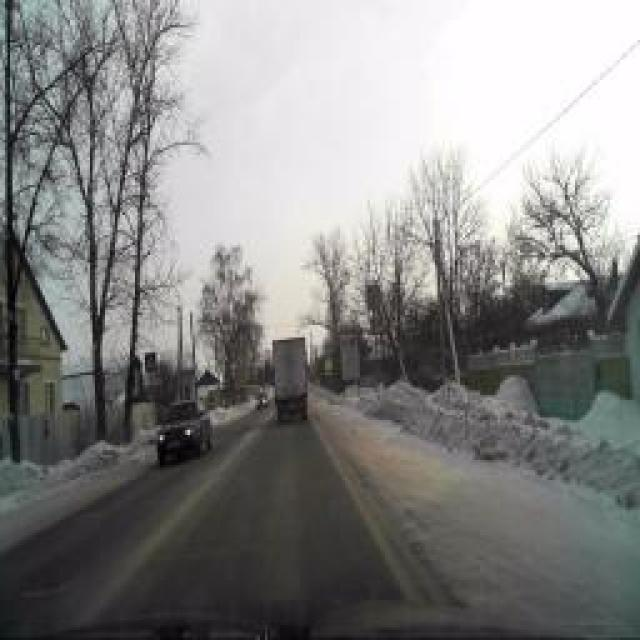sign: (369, 310, 381, 335)
